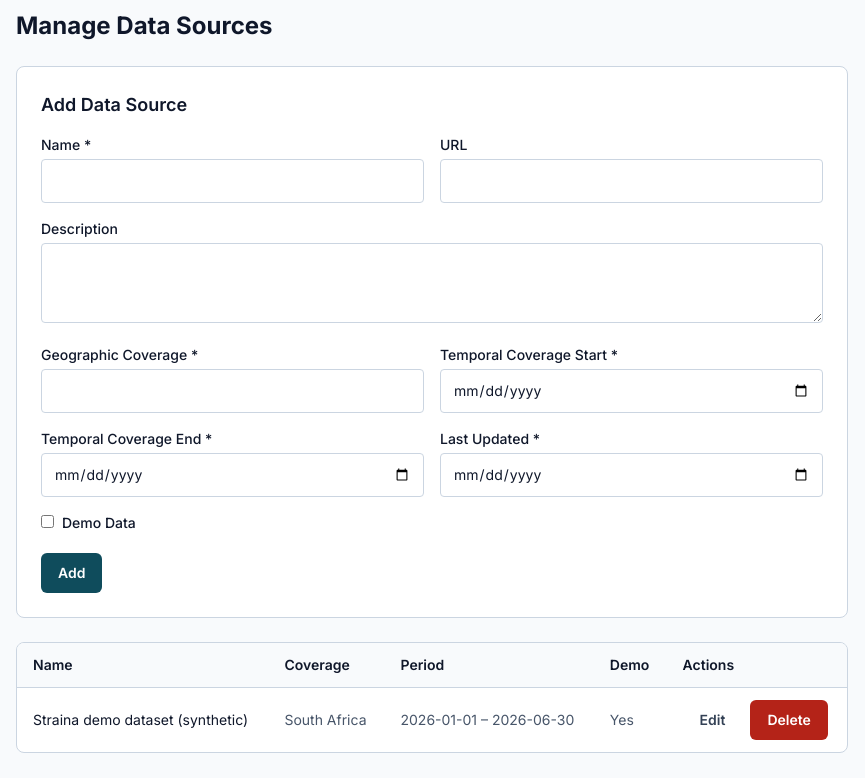
Test: S9 Manage Data Sources (T-US12-1, T-US12-2, T-US12-3) › T-US12-2: submitting with a missing required field shows ERR13 and sends nothing
The width and height of the screenshot is (865, 778).
Expected: the text "Straina demo dataset (synthetic)" is shown, [17,688,268,752]
In the field below "Name *": (232, 181) [41,159,424,203], type "Incomplete source"
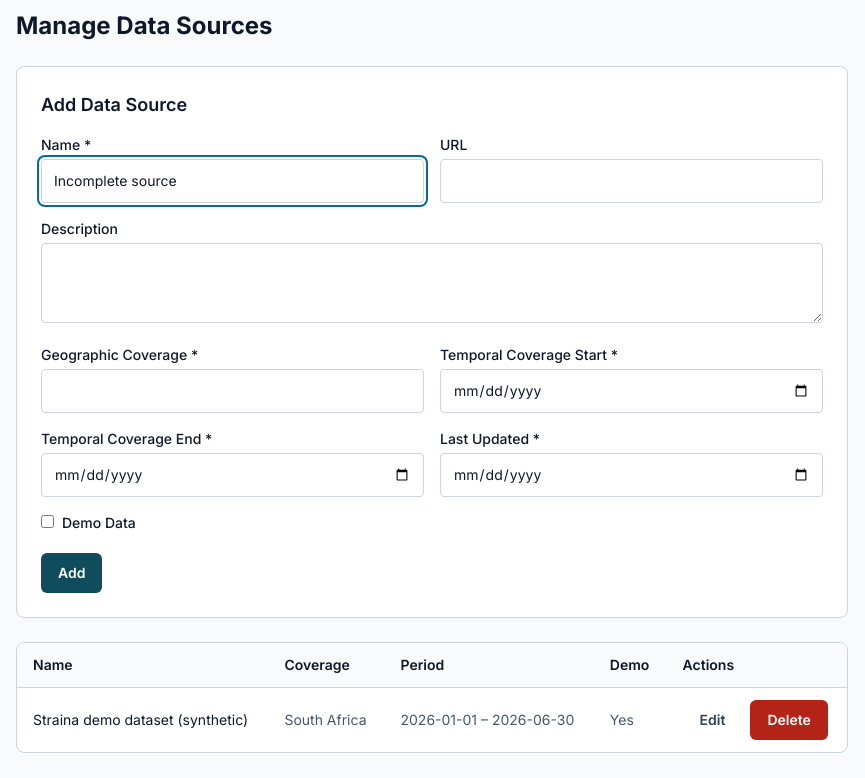
Submit the form, box [41,135,823,593]
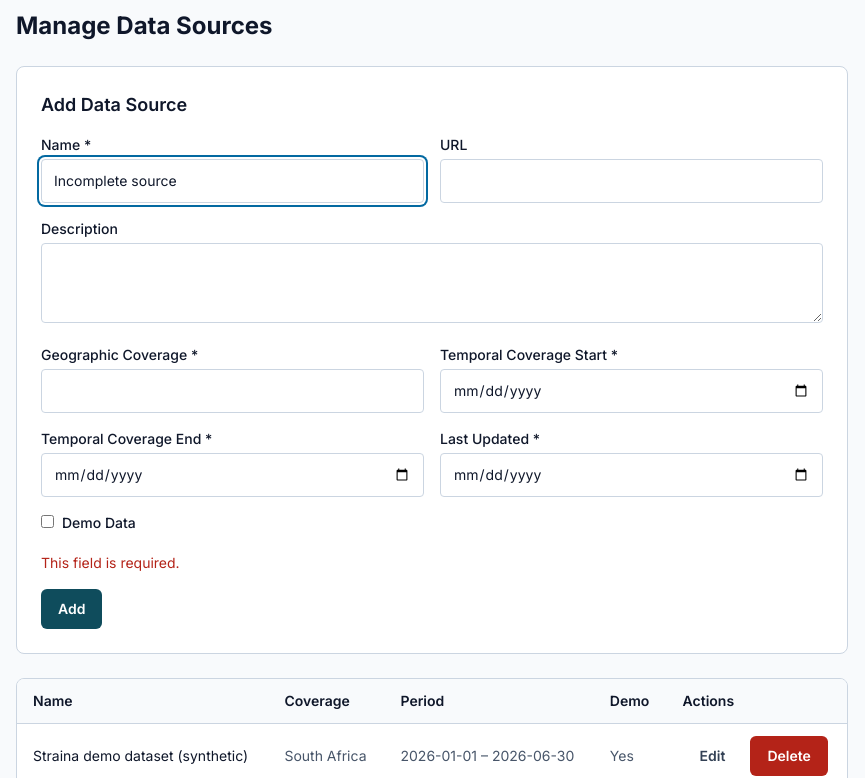
Now the text "This field is required." is shown, box [41,554,180,571]
